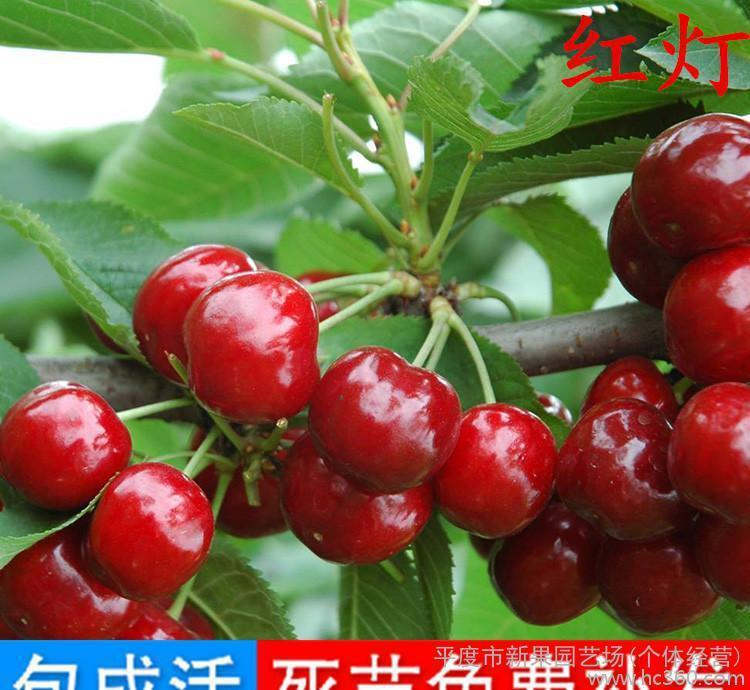apple: (311, 346, 459, 492), (182, 271, 318, 420), (558, 394, 694, 540), (280, 433, 431, 562), (78, 464, 216, 604), (1, 379, 132, 522), (132, 243, 257, 382), (632, 113, 750, 256), (437, 402, 555, 537), (661, 239, 750, 387), (670, 382, 750, 531)
